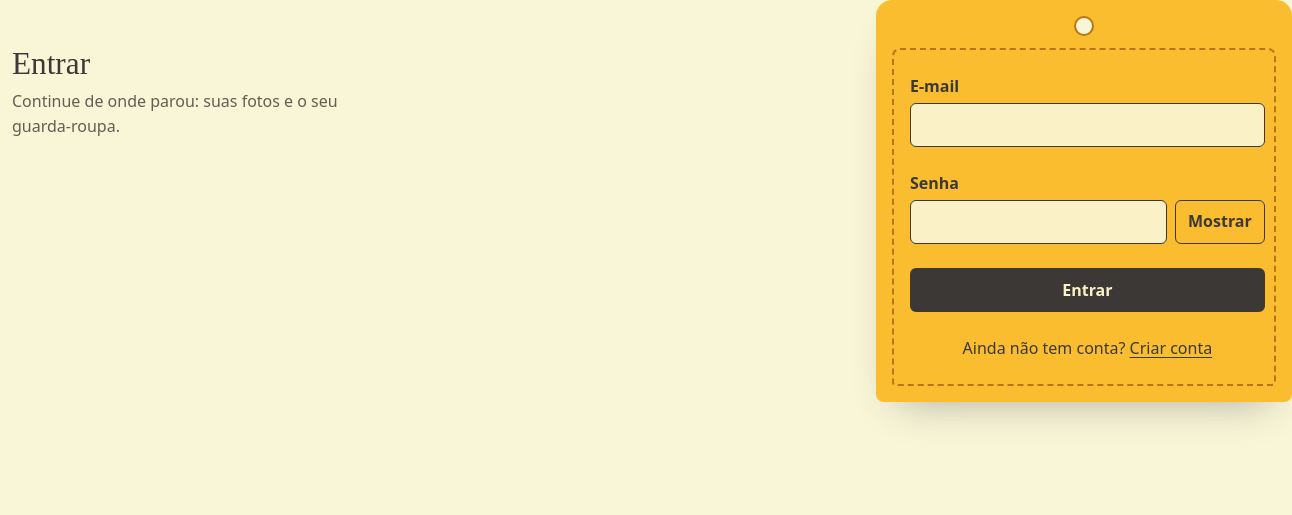
login › explica credenciais erradas, limpa a senha e mantém o e-mail
This screenshot has width=1292, height=515.
Type "joao@example.com" into the field labelled "E-mail".
click(1087, 125); type("joao@example.com")  # box [910,103,1265,147]
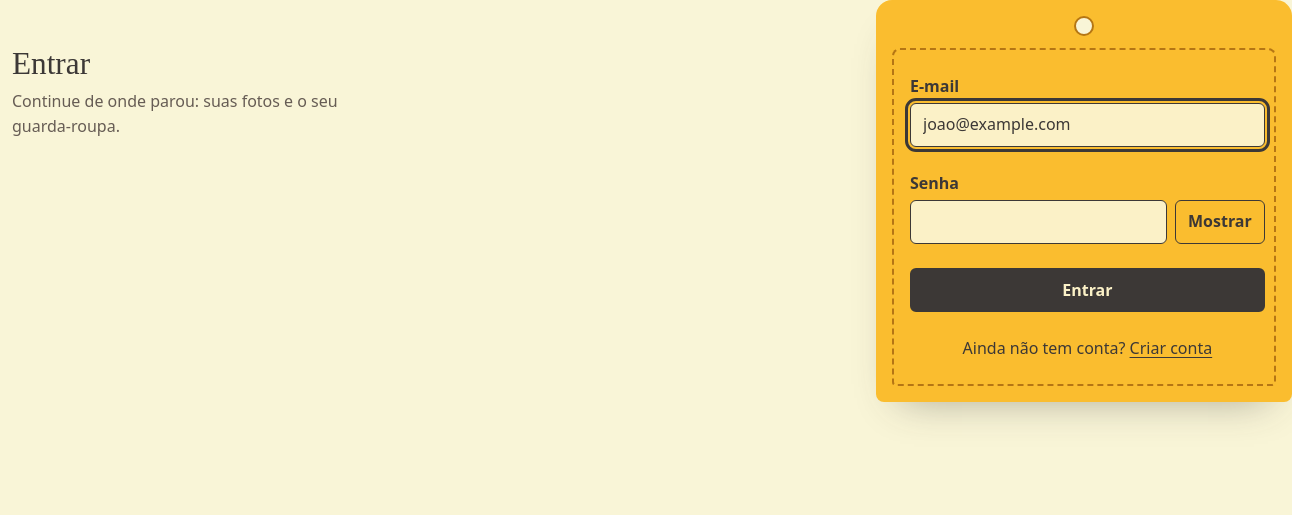
Type "senha-errada" into the password field labelled "Senha".
click(1038, 222); type("senha-errada")  # box [910,200,1167,244]
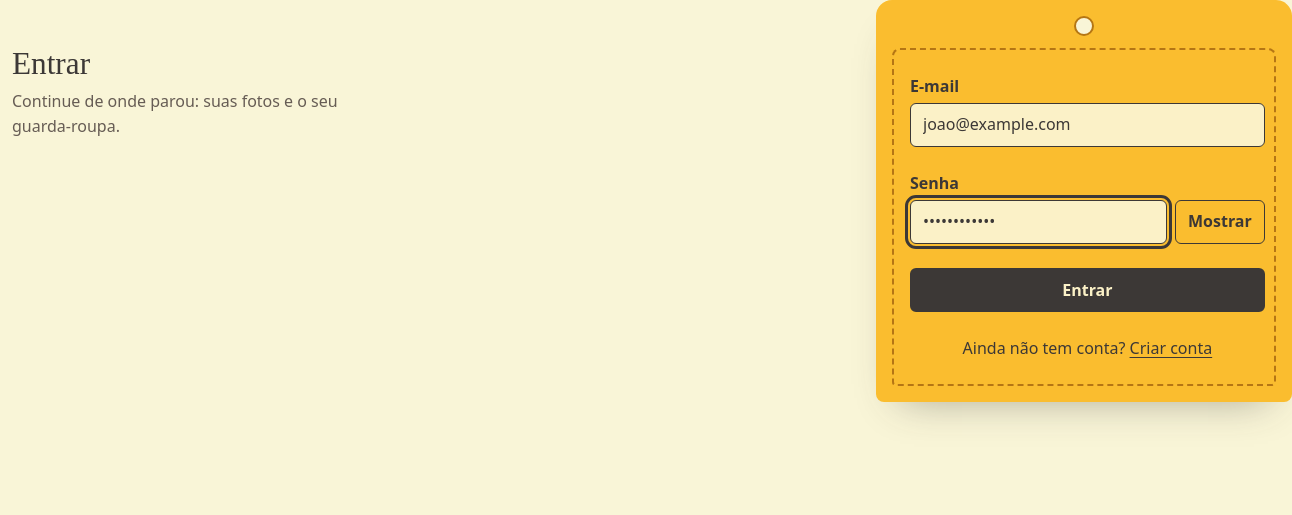
Click the button "Entrar".
click(1087, 290)  # box [910,268,1265,312]
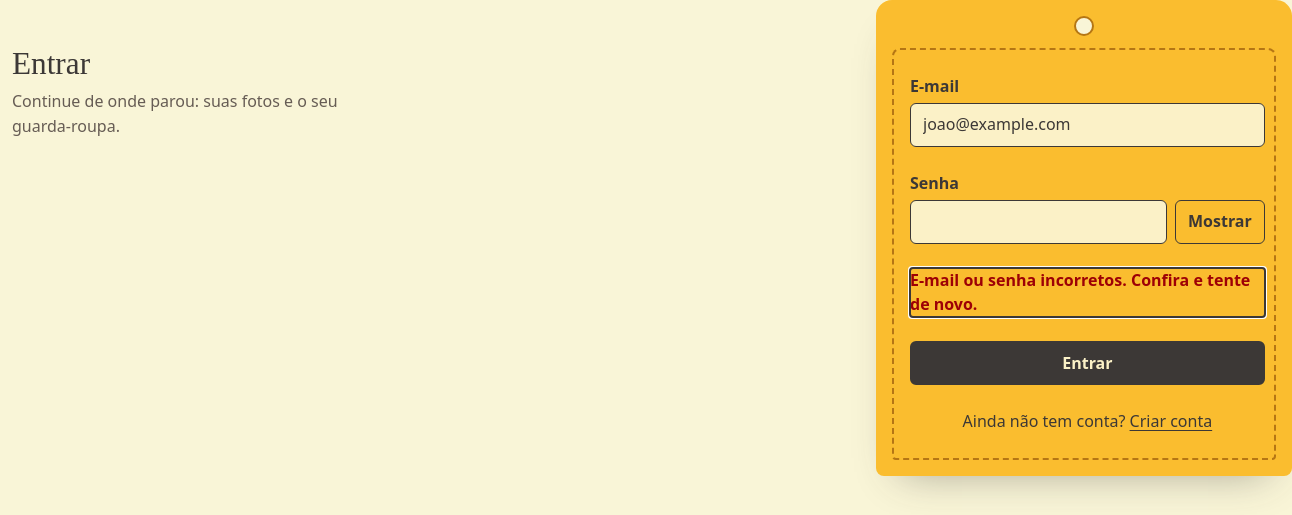
Now the message reads "E-mail ou senha incorretos. Confira e tente de novo.", box [910,269,1250,315]
Now the password field labelled "Senha" is empty, box [910,200,1167,244]
